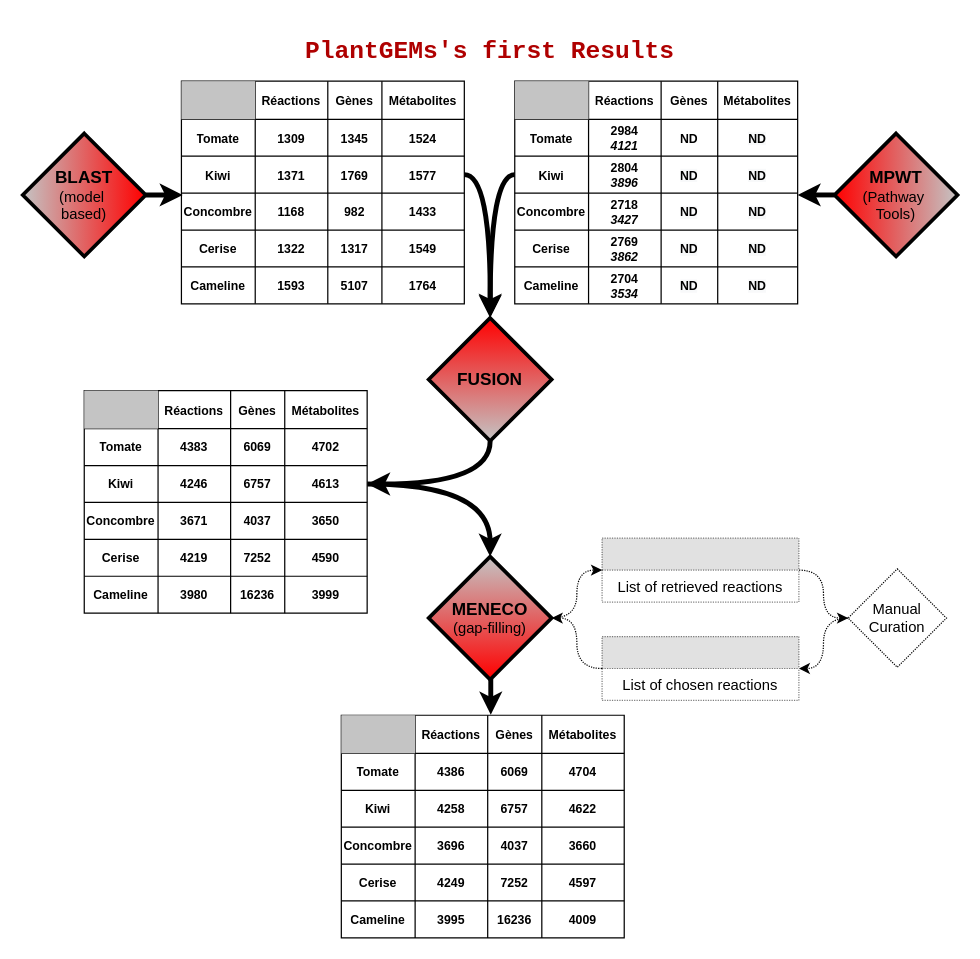
Image size: 980x959. Some labels were removed from this diagram. Here are the shapes that lost their labels. From the top down, the box of each, then its label:
(601, 537, 799, 602): MENECO process's output
(601, 635, 799, 700): Manual process's output
